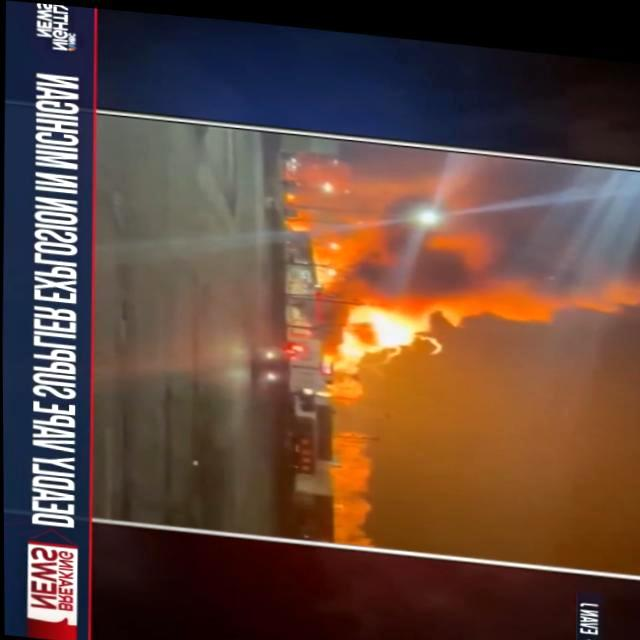fire: (304, 131, 640, 409)
